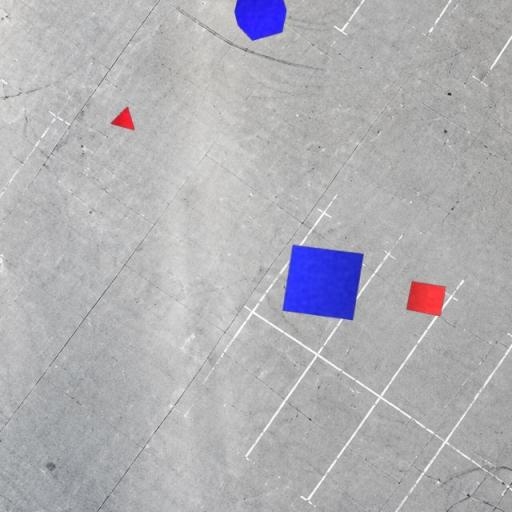BLUE_SQUARE: (282, 244, 364, 321)
RED_SQUARE: (406, 281, 446, 317)
